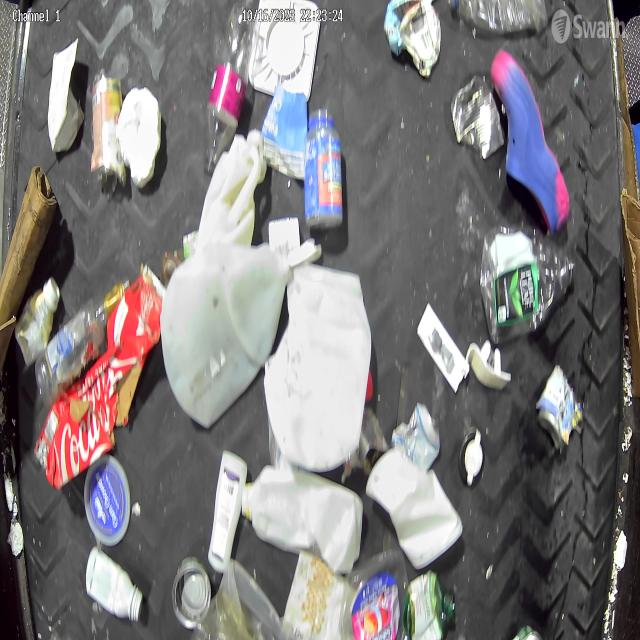can: (451, 77, 506, 162), (536, 364, 580, 448), (173, 556, 213, 636)
milk_jug: (158, 235, 290, 422), (264, 262, 372, 472), (242, 465, 362, 577), (197, 128, 265, 250)
plastic_bottle: (35, 274, 131, 397), (480, 230, 576, 348), (204, 3, 254, 178), (444, 0, 553, 32)
